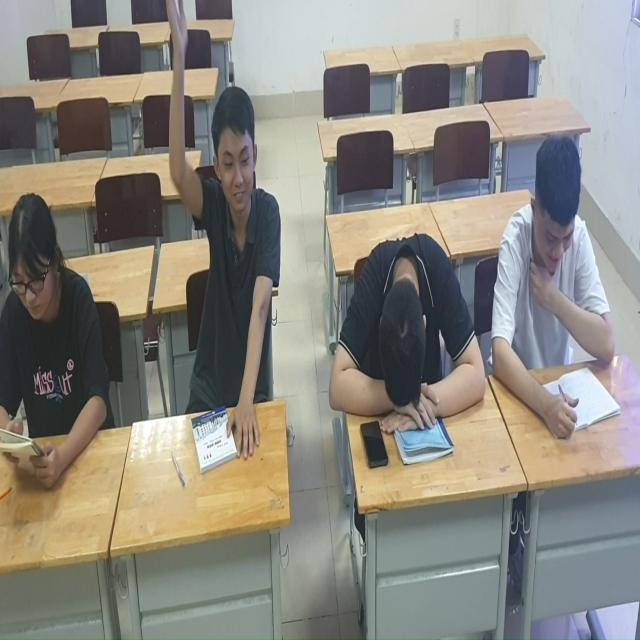raise_hand: (166, 1, 284, 465)
read: (492, 138, 617, 441), (1, 190, 109, 491)
sleep: (328, 231, 485, 446)
